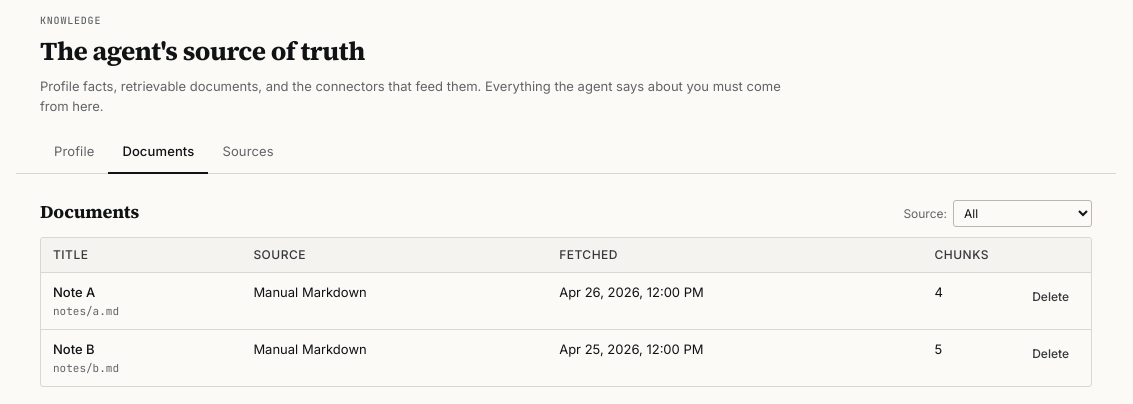
Test: deleting a document removes it from the list on the Documents tab
Check: the text "Note A" is shown, box [53,284,95,300]
Click the button "Delete" in the row of "Note A": (1051, 297) [1022,283,1079,311]
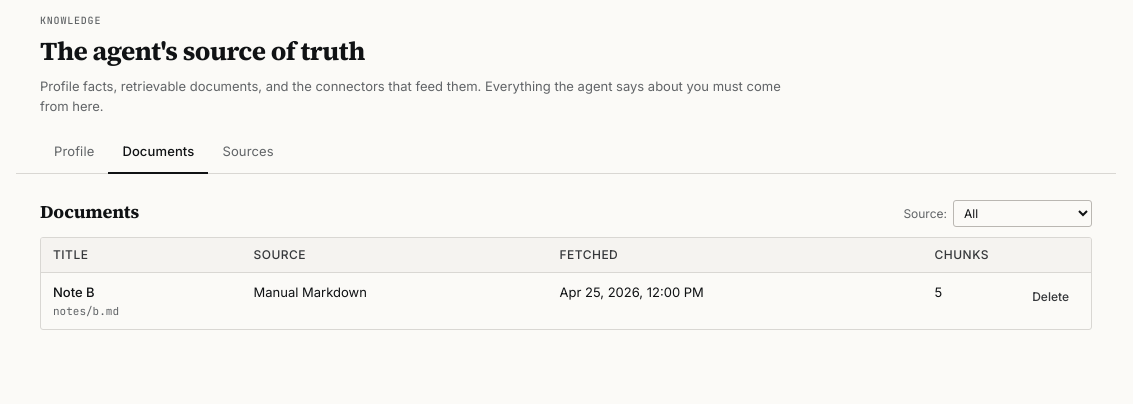
Check: the text "Note B" is shown, box [53,284,95,300]
Check: the text "Note A" is gone
